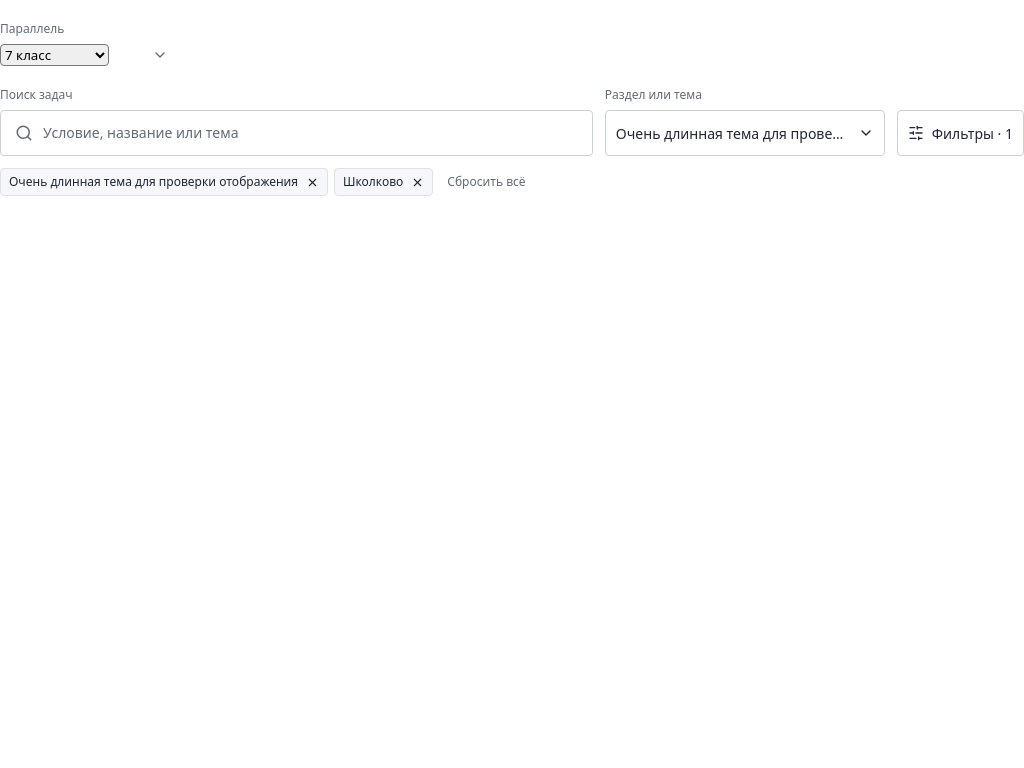
Test: keeps selected topic/source visible while facet options are reloading
Expected: the button "Очень длинная тема для проверки отображения" below "Раздел или тема" is shown, [605,110,885,156]
What coordinates should you click on to do the following:
click the button "Фильтры · 1"
I would click on:
 (960, 133)
Its box is [897,110,1023,156].
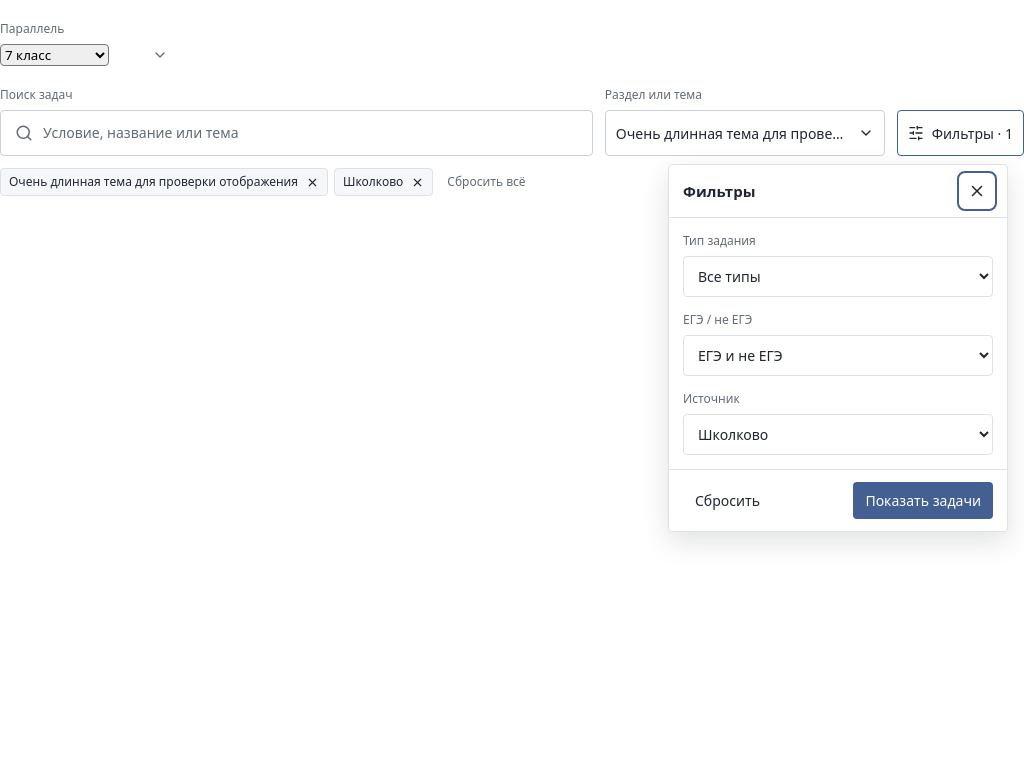
Result: the dropdown labelled "Источник" shows "Школково" at [683,414,993,455]
